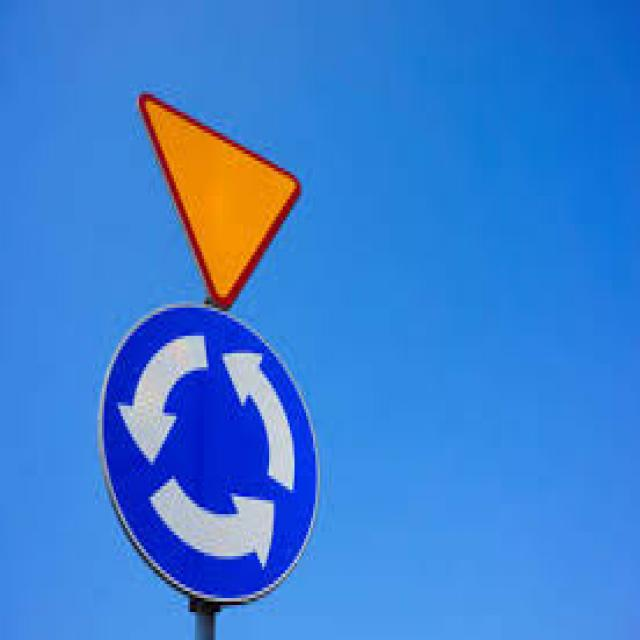roundabout: (93, 302, 324, 605)
